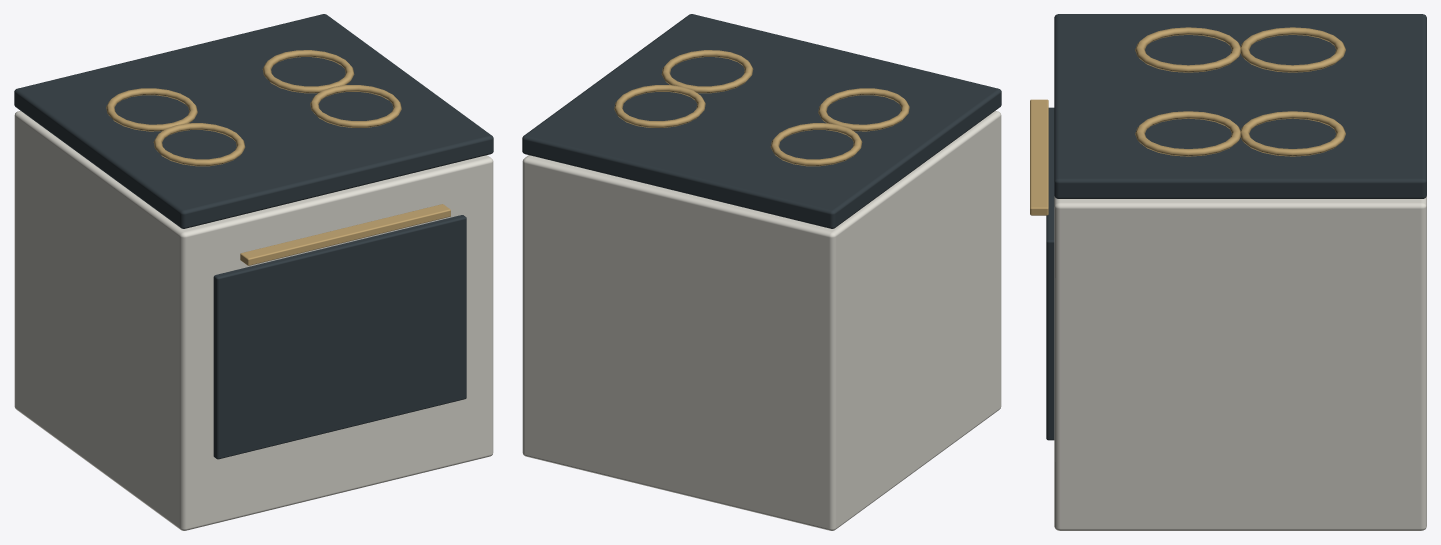
The model's file is stove-8-2.glb.
3 renders of one model, left to right at view 1: azimuth 30°, elevation 25°; view 2: azimuth 150°, elevation 25°; view 3: azimuth 270°, elevation 25°, orthographic. The views are drawn at different scales.
Visible parts, largest first — view 1: upholstery (×2), part; view 2: upholstery (×2), part; view 3: upholstery (×2), part.
Boxes of the visible parts, x1,y1,x2,y2 form: upholstery (×2): (14,14,493,530); part: (106,50,450,265); upholstery (×2): (522,14,1001,530); part: (614,50,909,166); upholstery (×2): (1046,14,1426,530); part: (1030,27,1345,215).
Size of the model in its own units: 1 by 1 by 1.
